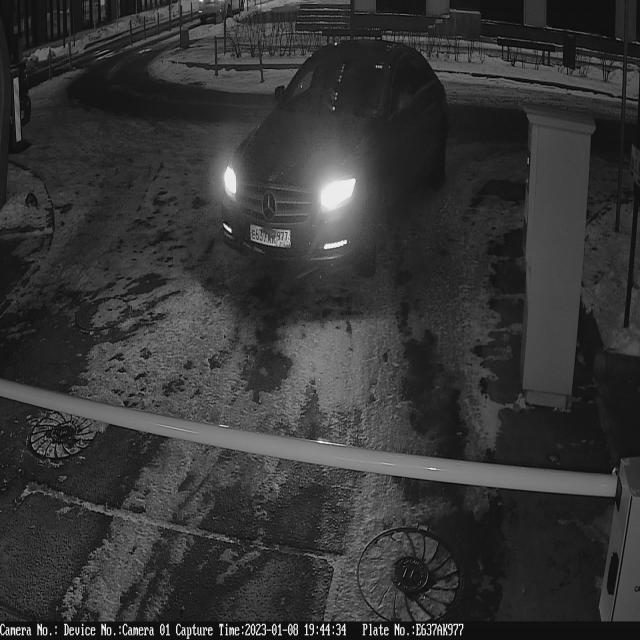car-plate-numbers: (246, 224, 294, 255)
